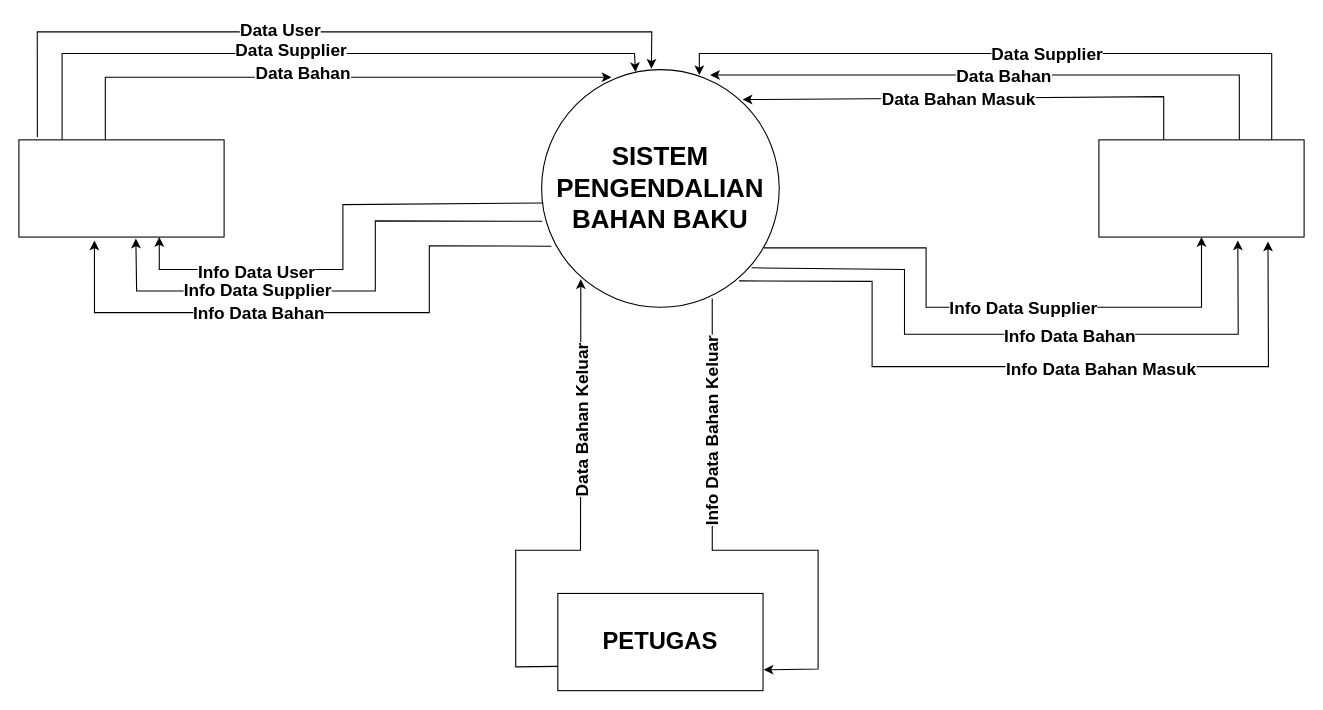
Some shapes in this 1323 by 710 pixel diagram are drawn without their labels. Here are the shapes that lost their labels. From the top down, the centre of each, then its label:
point 121,188: OWNER
point 1201,188: ADMIN
